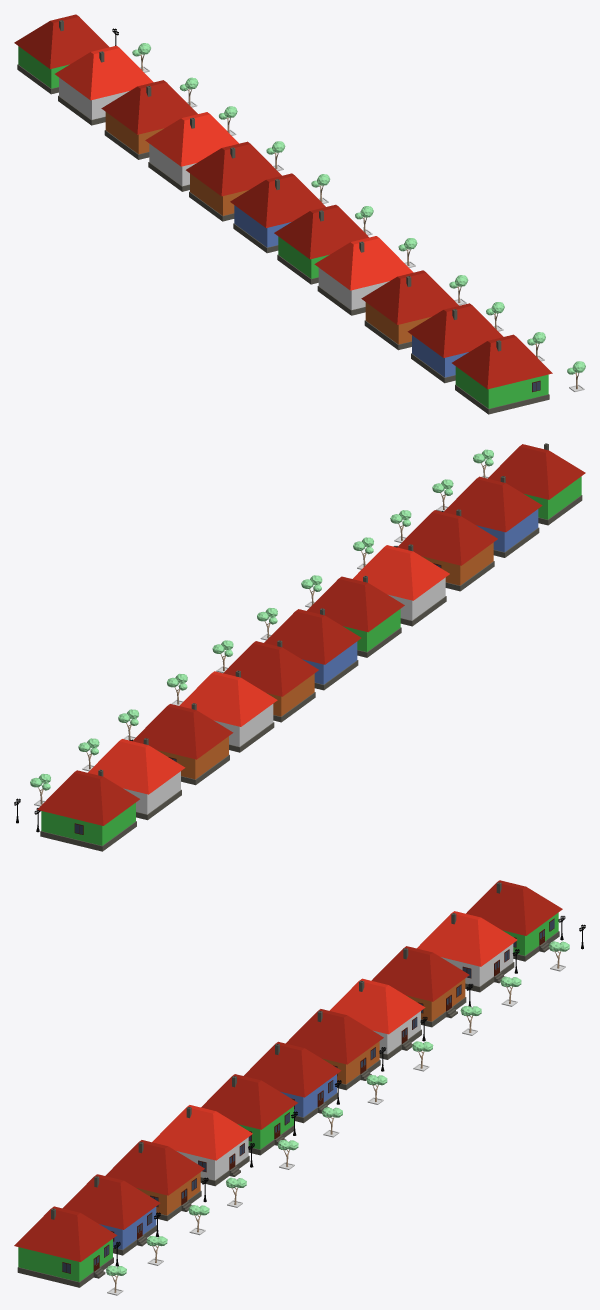
The model's file is items_cityfront.fbx.
3 views of the same model, one above another, from view 1: azimuth 30°, elevation 25°; view 2: azimuth 150°, elevation 25°; view 3: azimuth 330°, elevation 25° (orthographic).
Visible parts, largest first — view 1: Cube.010; view 2: Cube.010; view 3: Cube.010.
Part boxes in pixels (x1,y1,x2,y2): Cube.010: (14, 14, 585, 414); Cube.010: (14, 443, 585, 851); Cube.010: (14, 880, 585, 1295).
Bounding box in the file's own units: 3362 × 1795 × 26035.
